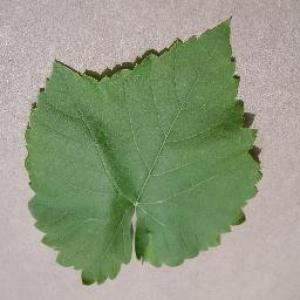Folha: (24, 14, 262, 286)
